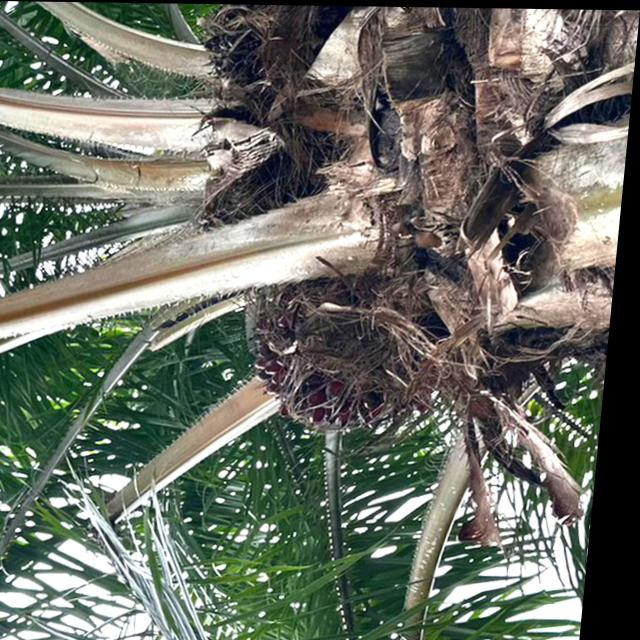ripe: (248, 281, 431, 441)
